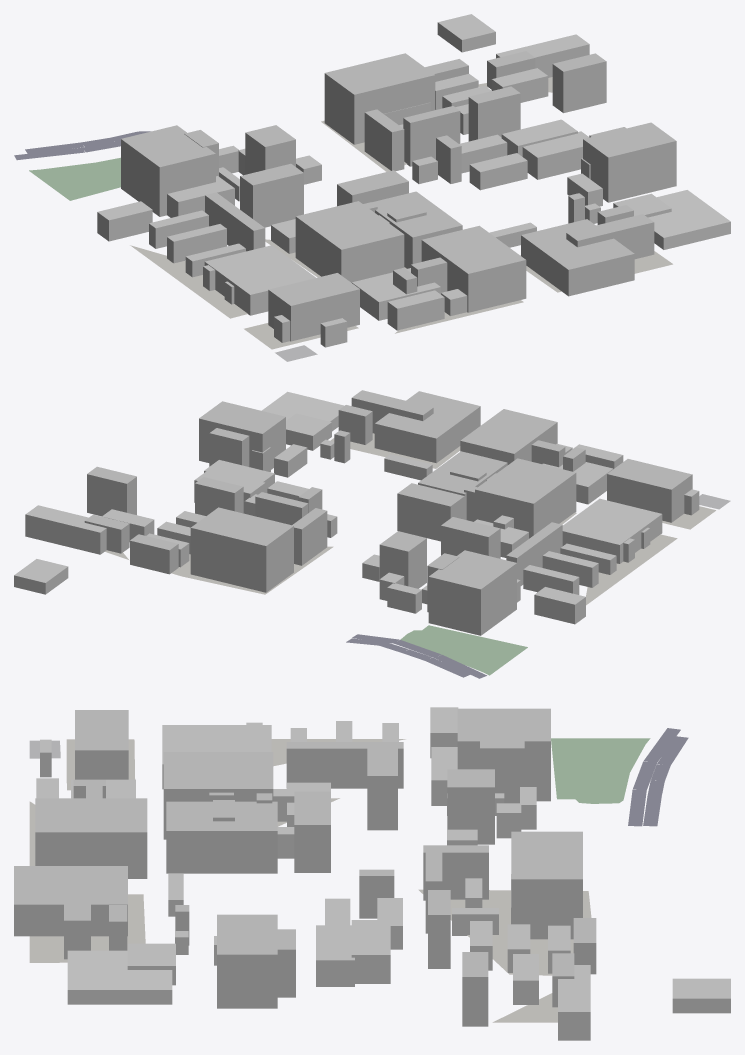
The model's file is 134_99_mid.glb.
The picture shows the model from 3 angles, top to bottom: view 1: azimuth 30°, elevation 25°; view 2: azimuth 150°, elevation 25°; view 3: azimuth 270°, elevation 25°; orthographic projection. The views are drawn at different scales.
Size of the model in its own units: 542 by 53.24 by 525.
